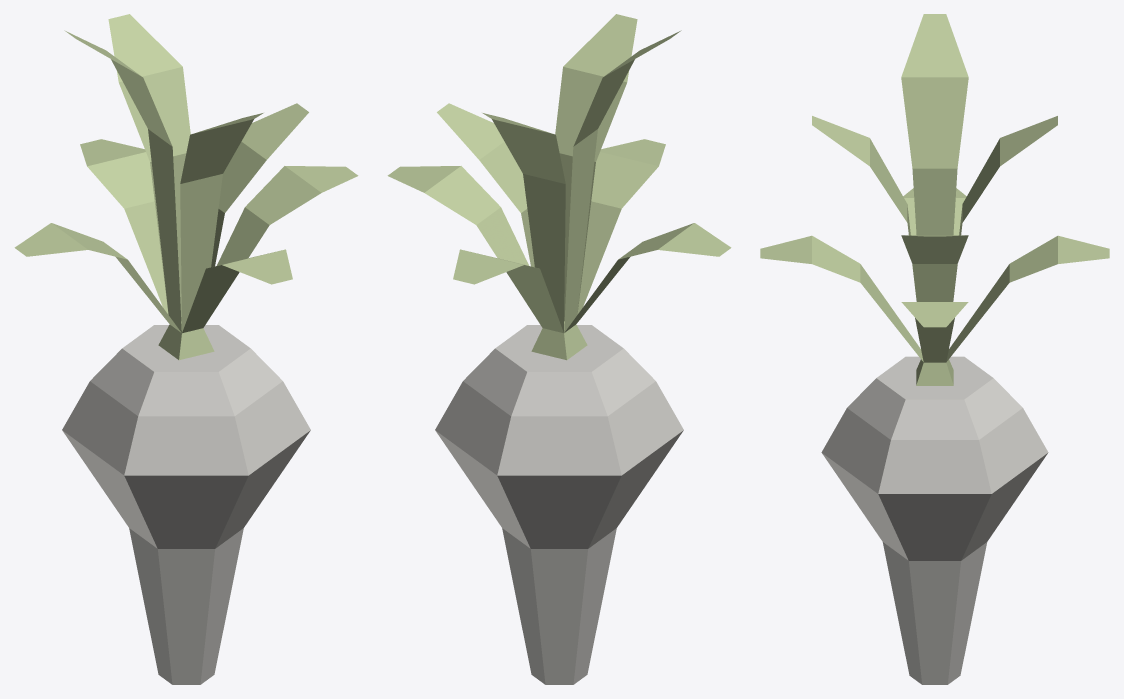
The picture shows the model from 3 angles, left to right: view 1: azimuth 30°, elevation 25°; view 2: azimuth 150°, elevation 25°; view 3: azimuth 270°, elevation 25°; orthographic projection. The views are drawn at different scales.
Visible parts, largest first — view 1: model; view 2: model; view 3: model.
Part boxes in pixels (x1,y1,x2,y2): model: (14, 14, 358, 684); model: (387, 14, 731, 684); model: (760, 14, 1109, 684).
Size of the model in its own units: 0.8579 by 1.65 by 0.8579.
